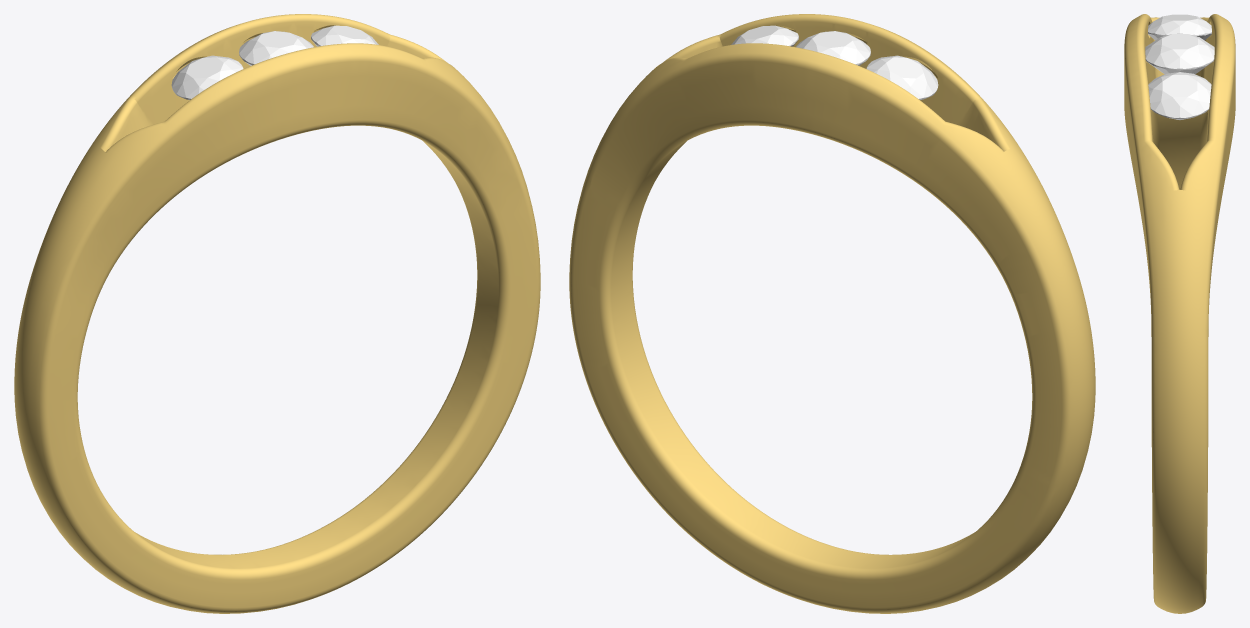
The model's file is leslieTatar_webgi.glb.
3 views of the same model, side by side, from view 1: azimuth 30°, elevation 25°; view 2: azimuth 150°, elevation 25°; view 3: azimuth 270°, elevation 25° (orthographic). The views are drawn at different scales.
Visible parts, largest first — view 1: Leslie_Tatar, Leslie_Tatar002, Leslie_Tatar003, Leslie_Tatar001; view 2: Leslie_Tatar, Leslie_Tatar002, Leslie_Tatar003, Leslie_Tatar001; view 3: Leslie_Tatar, Leslie_Tatar001, Leslie_Tatar003, Leslie_Tatar002.
Part boxes in pixels (bbox=[...]): Leslie_Tatar: bbox=[14, 14, 540, 613]; Leslie_Tatar002: bbox=[171, 55, 243, 99]; Leslie_Tatar003: bbox=[239, 31, 313, 65]; Leslie_Tatar001: bbox=[311, 25, 378, 46]; Leslie_Tatar: bbox=[569, 14, 1095, 613]; Leslie_Tatar002: bbox=[866, 55, 938, 99]; Leslie_Tatar003: bbox=[796, 31, 870, 65]; Leslie_Tatar001: bbox=[731, 25, 798, 46]; Leslie_Tatar: bbox=[1124, 14, 1235, 613]; Leslie_Tatar001: bbox=[1148, 72, 1211, 119]; Leslie_Tatar003: bbox=[1145, 33, 1214, 74]; Leslie_Tatar002: bbox=[1148, 14, 1211, 40].
Bounding box in the file's own units: 2.73 × 2.88 × 0.5289.
